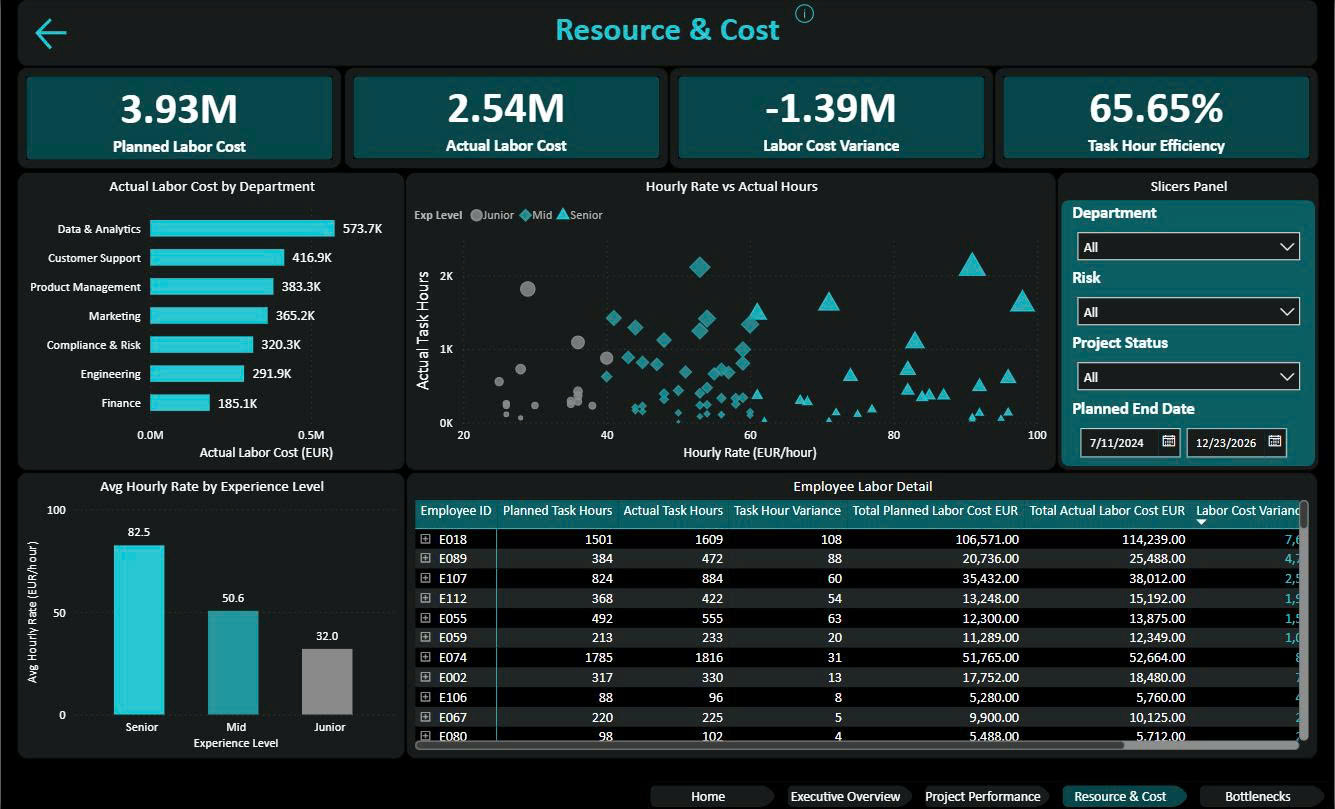

The page's visual inventory and layout, read from the dashboard file:
{"tool":"powerbi","page":{"name":"Resource & Cost","canvas":[1280,780],"ordinal":3},"visuals":[{"type":"textbox","box":[15.6,0,1249.8,65.2],"z":0},{"type":"cardVisual","fields":{"Data":["KPI_Measures.Total Planned Labor Cost EUR"]},"box":[15.6,65.2,312,98.2],"z":1000},{"type":"cardVisual","fields":{"Data":["KPI_Measures.Total Actual Labor Cost EUR"]},"box":[329.1,65,312,98],"z":2000},{"type":"cardVisual","fields":{"Data":["KPI_Measures.Labor Cost Variance EUR"]},"box":[642.1,65,312,98],"z":3000},{"type":"cardVisual","fields":{"Data":["KPI_Measures.Task Hour Efficiency Ratio"]},"box":[954.1,65,312,98],"z":4000},{"type":"clusteredBarChart","title":"Actual Labor Cost by Department","fields":{"Category":["dim_department.department_name"],"Y":["KPI_Measures.Total Actual Labor Cost EUR"]},"box":[15.4,166.3,373.1,286.5],"z":5000},{"type":"shape","title":"Slicers Panel","box":[1014.4,166.3,251.9,286.5],"z":6000},{"type":"pivotTable","title":"Employee Labor Detail","fields":{"Rows":["fact_task_performance.employee_id","dim_employee.full_name","dim_employee.role","dim_employee.experience_level","dim_department.department_name"],"Values":["KPI_Measures.Planned Task Hours","KPI_Measures.Actual Task Hours","KPI_Measures.Task Hour Variance","KPI_Measures.Total Planned Labor Cost EUR","KPI_Measures.Total Actual Labor Cost EUR","KPI_Measures.Labor Cost Variance EUR","KPI_Measures.Task Hour Efficiency Ratio"]},"box":[389.4,454.8,876,276],"z":7000},{"type":"scatterChart","title":"Hourly Rate vs Actual Hours","fields":{"X":["KPI_Measures.Avg Hourly Rate EUR"],"Category":["dim_employee.employee_id"],"Y":["KPI_Measures.Actual Task Hours"],"Size":["KPI_Measures.Total Actual Labor Cost EUR"],"Series":["dim_employee.experience_level"]},"box":[388.5,166.3,626,286.5],"z":8000},{"type":"clusteredColumnChart","title":"Avg Hourly Rate by Experience Level","fields":{"Category":["dim_employee.experience_level"],"Y":["KPI_Measures.Avg Hourly Rate EUR"]},"box":[15.4,454.8,373.1,276],"z":9000},{"type":"slicer","title":"Department","fields":{"Values":["dim_department.department_name"]},"box":[1024.4,194.7,234.3,62.8],"z":10000},{"type":"slicer","title":"Risk ","fields":{"Values":["dim_project.risk_level"]},"box":[1024.4,257.5,234.3,62.8],"z":11000},{"type":"slicer","title":"Project Status","fields":{"Values":["dim_project.project_status"]},"box":[1024.4,320.3,234.3,62.8],"z":12000},{"type":"slicer","title":"Planned End Date","fields":{"Values":["dim_project.planned_end_date"]},"box":[1024.4,383.2,234.3,62.8],"z":13000},{"type":"pageNavigator","box":[620,751,660,29],"z":14000},{"type":"actionButton","box":[29,13,121,40],"z":15000},{"type":"actionButton","title":"KPI ON","box":[758,0,28,28],"z":16000}]}

Visuals, with their boxes in screenshot pixels (x1, y1, x2, y2), scaled from the page's 1280x780 canvas onto the 1335x809 screenshot:
textbox: region(16, 0, 1320, 68)
cardVisual - KPI_Measures.Total Planned Labor Cost EUR: region(16, 68, 342, 169)
cardVisual - KPI_Measures.Total Actual Labor Cost EUR: region(343, 67, 669, 169)
cardVisual - KPI_Measures.Labor Cost Variance EUR: region(670, 67, 995, 169)
cardVisual - KPI_Measures.Task Hour Efficiency Ratio: region(995, 67, 1321, 169)
"Actual Labor Cost by Department" clusteredBarChart: region(16, 172, 405, 470)
"Slicers Panel" shape: region(1058, 172, 1321, 470)
"Employee Labor Detail" pivotTable: region(406, 472, 1320, 758)
"Hourly Rate vs Actual Hours" scatterChart: region(405, 172, 1058, 470)
"Avg Hourly Rate by Experience Level" clusteredColumnChart: region(16, 472, 405, 758)
"Department" slicer: region(1068, 202, 1313, 267)
"Risk " slicer: region(1068, 267, 1313, 332)
"Project Status" slicer: region(1068, 332, 1313, 397)
"Planned End Date" slicer: region(1068, 397, 1313, 463)
pageNavigator: region(647, 779, 1334, 808)
actionButton: region(30, 13, 156, 55)
"KPI ON" actionButton: region(791, 0, 820, 29)
